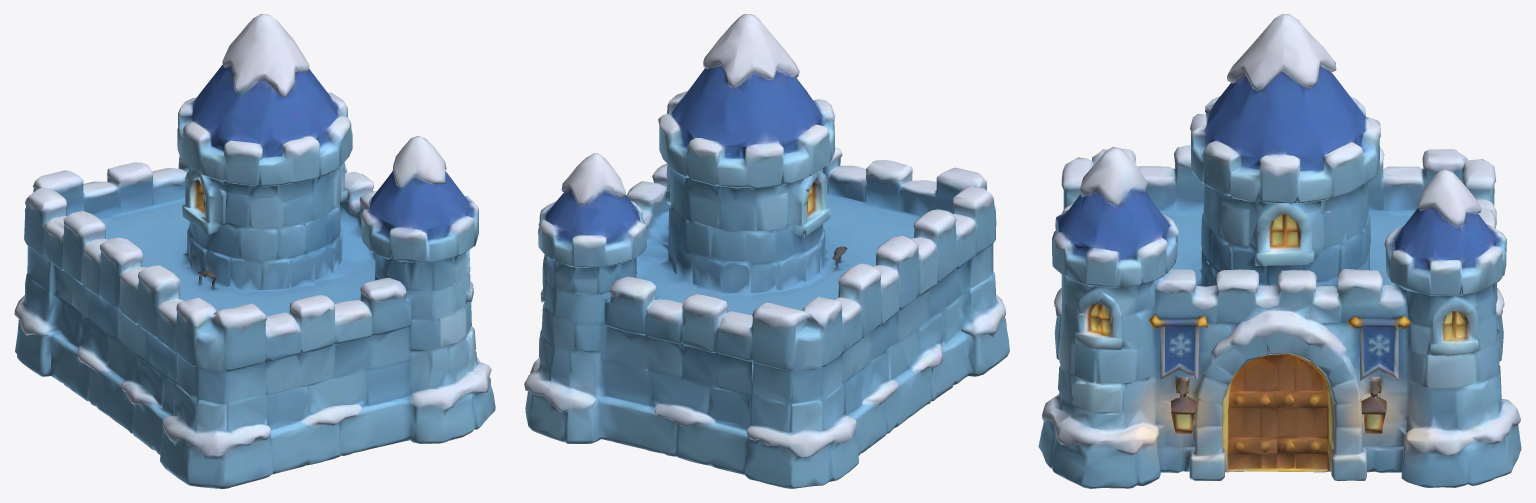
Rendered from fortress3.glb.
The picture shows the model from 3 angles, left to right: view 1: azimuth 30°, elevation 25°; view 2: azimuth 150°, elevation 25°; view 3: azimuth 270°, elevation 25°; orthographic projection. The views are drawn at different scales.
Parts seen in each view (by area): view 1: tripo_node_91142fac-3ba7-43b8-b795-6e99697cdd9c; view 2: tripo_node_91142fac-3ba7-43b8-b795-6e99697cdd9c; view 3: tripo_node_91142fac-3ba7-43b8-b795-6e99697cdd9c.
Boxes of the visible parts, x1,y1,x2,y2 form: tripo_node_91142fac-3ba7-43b8-b795-6e99697cdd9c: (14,14,495,488); tripo_node_91142fac-3ba7-43b8-b795-6e99697cdd9c: (524,14,1009,488); tripo_node_91142fac-3ba7-43b8-b795-6e99697cdd9c: (1038,14,1521,488).
Size of the model in its own units: 0.8219 by 0.9148 by 1.
Materials: 1 (1 with a texture image).
